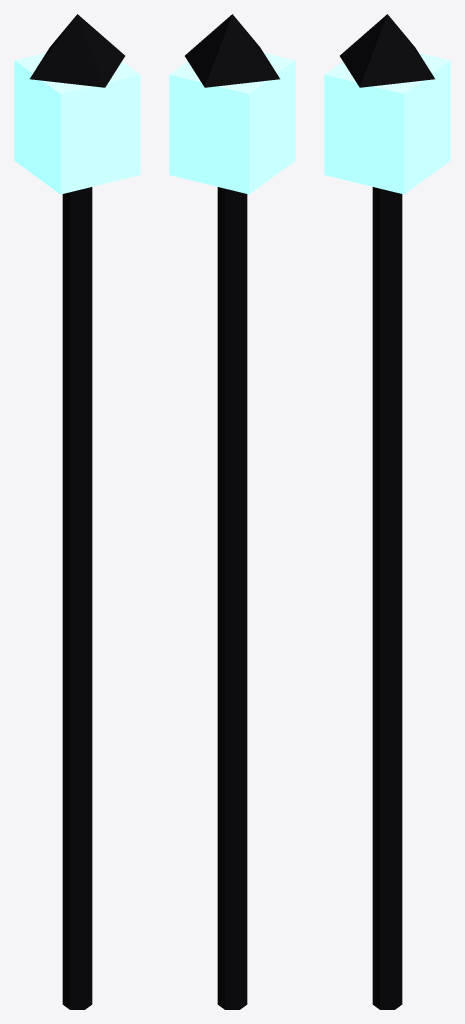
Rendered from Prop_OR_Lantern_03.glb.
3 views of the same model, side by side, from view 1: azimuth 30°, elevation 25°; view 2: azimuth 150°, elevation 25°; view 3: azimuth 330°, elevation 25° (orthographic).
Visible parts, largest first — view 1: Prop_OR_Lantern_03; view 2: Prop_OR_Lantern_03; view 3: Prop_OR_Lantern_03.
Part boxes in pixels (x1,y1,x2,y2): Prop_OR_Lantern_03: (14,14,140,1009); Prop_OR_Lantern_03: (169,14,295,1009); Prop_OR_Lantern_03: (324,14,450,1009).
Bounding box in the file's own units: 0.3 × 2.96 × 0.3.
